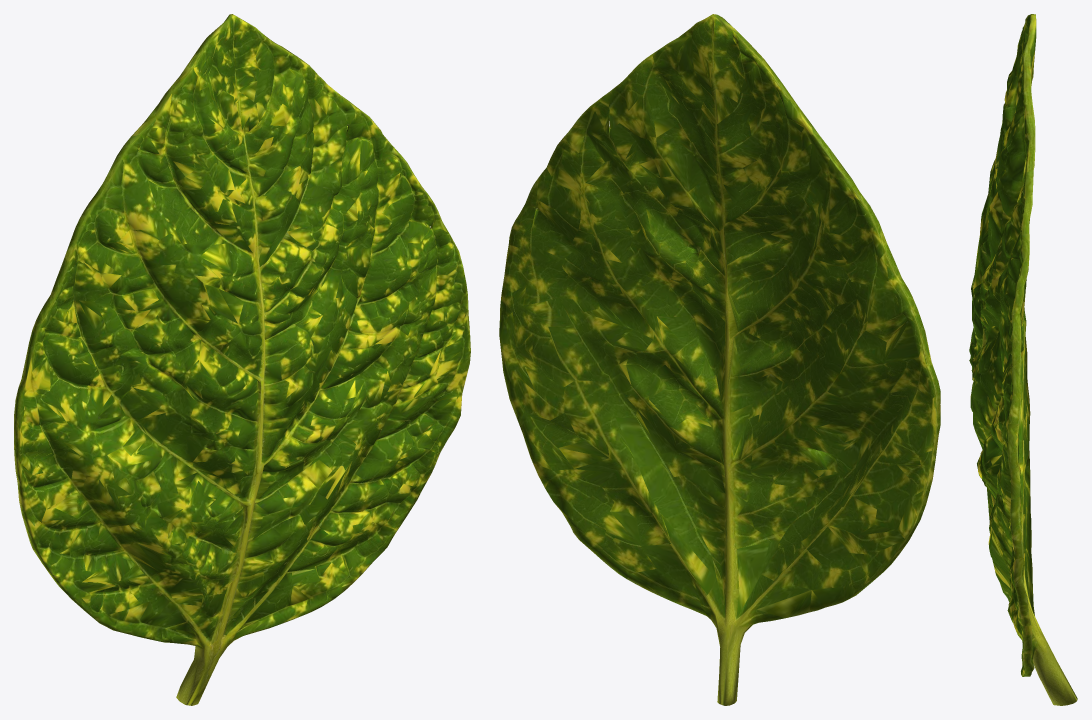
File: soybean_downy_mildew.glb
3 renders of one model, left to right at view 1: azimuth 30°, elevation 25°; view 2: azimuth 150°, elevation 25°; view 3: azimuth 270°, elevation 25°, orthographic. The views are drawn at different scales.
Visible parts, largest first — view 1: soybean_downy_mildew; view 2: soybean_downy_mildew; view 3: soybean_downy_mildew.
Part boxes in pixels (x1,y1,x2,y2): soybean_downy_mildew: (14,14,470,705); soybean_downy_mildew: (499,14,940,705); soybean_downy_mildew: (969,14,1077,705).
Size of the model in its own units: 0.684 by 0.9994 by 0.1401.
Materials: 1 (1 with a texture image).
